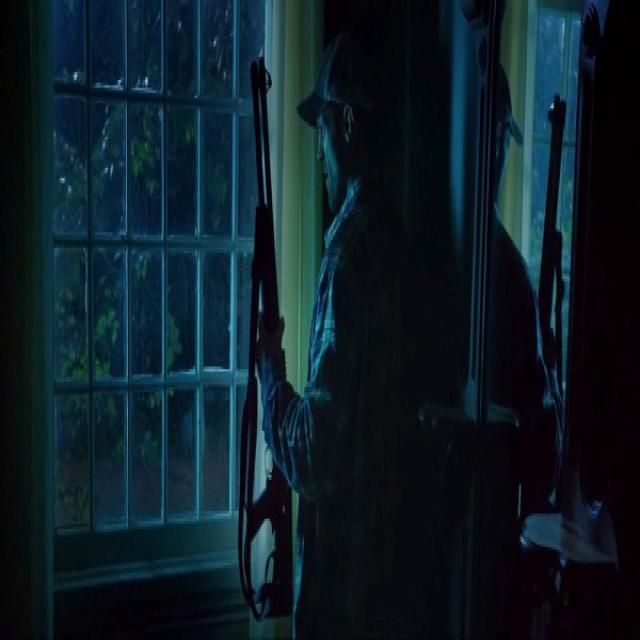rifle: (238, 46, 302, 628)
